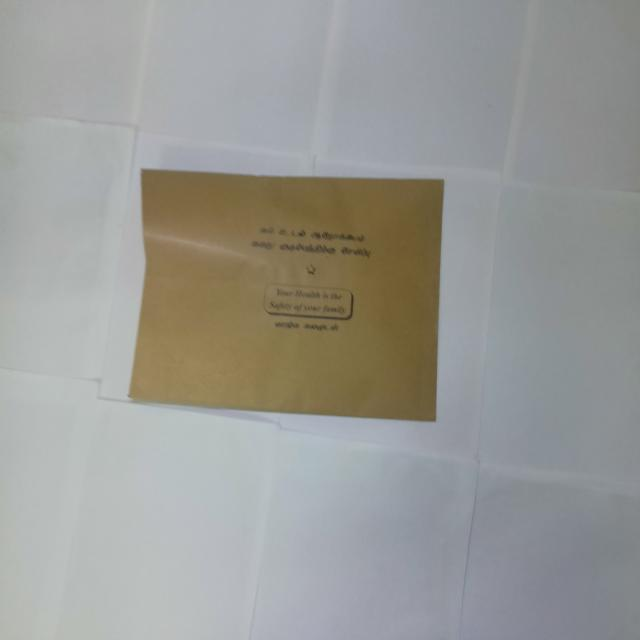box: (118, 170, 449, 428)
